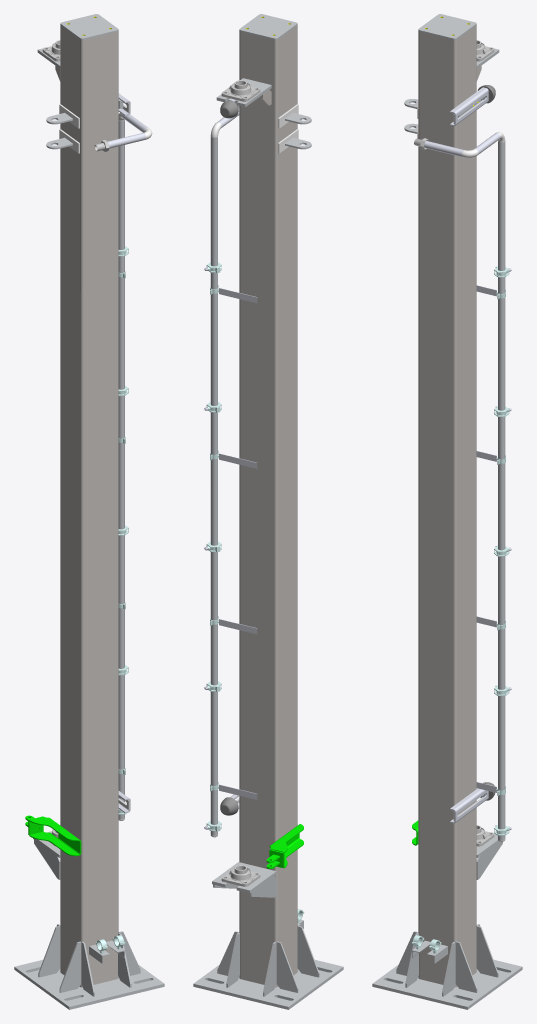
The model's file is VERTICALBRUSH1.glb.
3 renders of one model, left to right at view 1: azimuth 30°, elevation 25°; view 2: azimuth 150°, elevation 25°; view 3: azimuth 330°, elevation 25°, orthographic.
Visible parts, largest first — view 1: Saliente-Extruir120, Saliente-Extruir126, Saliente-Extruir117, Chapa desplegada, Taladro roscado M001, Saliente-Extruir118, Saliente-Extruir121, Saliente-Extruir119, Saliente-Extruir109; view 2: Saliente-Extruir120, Saliente-Extruir126, Saliente-Extruir117, Taladro roscado M001, Saliente-Extruir121, Saliente-Extruir118, Taladro roscado M002, Chapa desplegada, Saliente-Extruir104, Saliente-Extruir097, _FY 509 M_22_54.2_30.2-1-solid002, _FY 509 M_22_54.2_30.2-1-solid003 (+2 smaller); view 3: Saliente-Extruir120, Saliente-Extruir126, Saliente-Extruir117, Taladro roscado M001, Saliente-Extruir114, Saliente-Extruir116, Cortar-Extruir014, Cortar-Extruir013, Saliente-Extruir122, Saliente-Extruir101.
Part boxes in pixels (<box>): Saliente-Extruir120: <box>60,25,118,987</box>; Saliente-Extruir126: <box>118,120,124,819</box>; Saliente-Extruir117: <box>14,960,164,1009</box>; Chapa desplegada: <box>29,816,81,856</box>; Taladro roscado M001: <box>60,14,118,39</box>; Saliente-Extruir118: <box>38,926,60,977</box>; Saliente-Extruir121: <box>59,941,81,992</box>; Saliente-Extruir119: <box>81,941,94,996</box>; Saliente-Extruir109: <box>34,840,60,879</box>; Saliente-Extruir120: <box>239,25,297,987</box>; Saliente-Extruir126: <box>210,137,217,835</box>; Saliente-Extruir117: <box>193,960,343,1009</box>; Taladro roscado M001: <box>239,14,297,39</box>; Saliente-Extruir121: <box>297,926,319,977</box>; Saliente-Extruir118: <box>276,941,298,992</box>; Taladro roscado M002: <box>212,862,276,893</box>; Chapa desplegada: <box>269,824,303,867</box>; Saliente-Extruir104: <box>263,941,276,996</box>; Saliente-Extruir097: <box>226,933,239,987</box>; _FY 509 M_22_54.2_30.2-1-solid002: <box>221,868,260,886</box>; _FY 509 M_22_54.2_30.2-1-solid003: <box>221,83,260,101</box>; Saliente-Extruir120: <box>418,25,476,987</box>; Saliente-Extruir126: <box>498,141,505,840</box>; Saliente-Extruir117: <box>372,960,522,1009</box>; Taladro roscado M001: <box>418,14,476,39</box>; Saliente-Extruir114: <box>476,926,498,977</box>; Saliente-Extruir116: <box>455,941,477,992</box>; Cortar-Extruir014: <box>450,87,488,126</box>; Cortar-Extruir013: <box>450,788,488,823</box>; Saliente-Extruir122: <box>442,941,455,996</box>; Saliente-Extruir101: <box>476,842,502,879</box>.
Size of the model in its own units: 505 by 4773 by 590.
